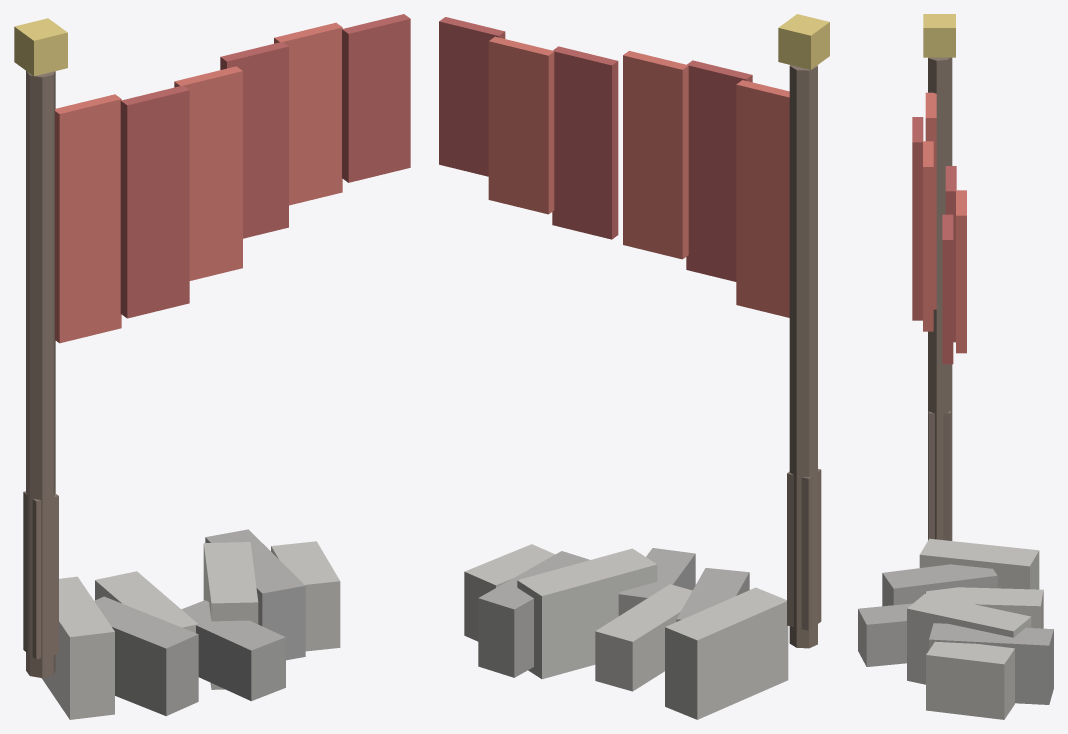
File: ws_city_flag.glb
3 renders of one model, left to right at view 1: azimuth 30°, elevation 25°; view 2: azimuth 150°, elevation 25°; view 3: azimuth 270°, elevation 25°, orthographic. The views are drawn at different scales.
Visible parts, largest first — view 1: ws_city_flag; view 2: ws_city_flag; view 3: ws_city_flag.
Boxes of the visible parts, x1,y1,x2,y2 form: ws_city_flag: [14, 14, 410, 719]; ws_city_flag: [439, 14, 829, 719]; ws_city_flag: [858, 14, 1053, 719].
Bounding box in the file's own units: 1.03 × 1.75 × 0.5378.
